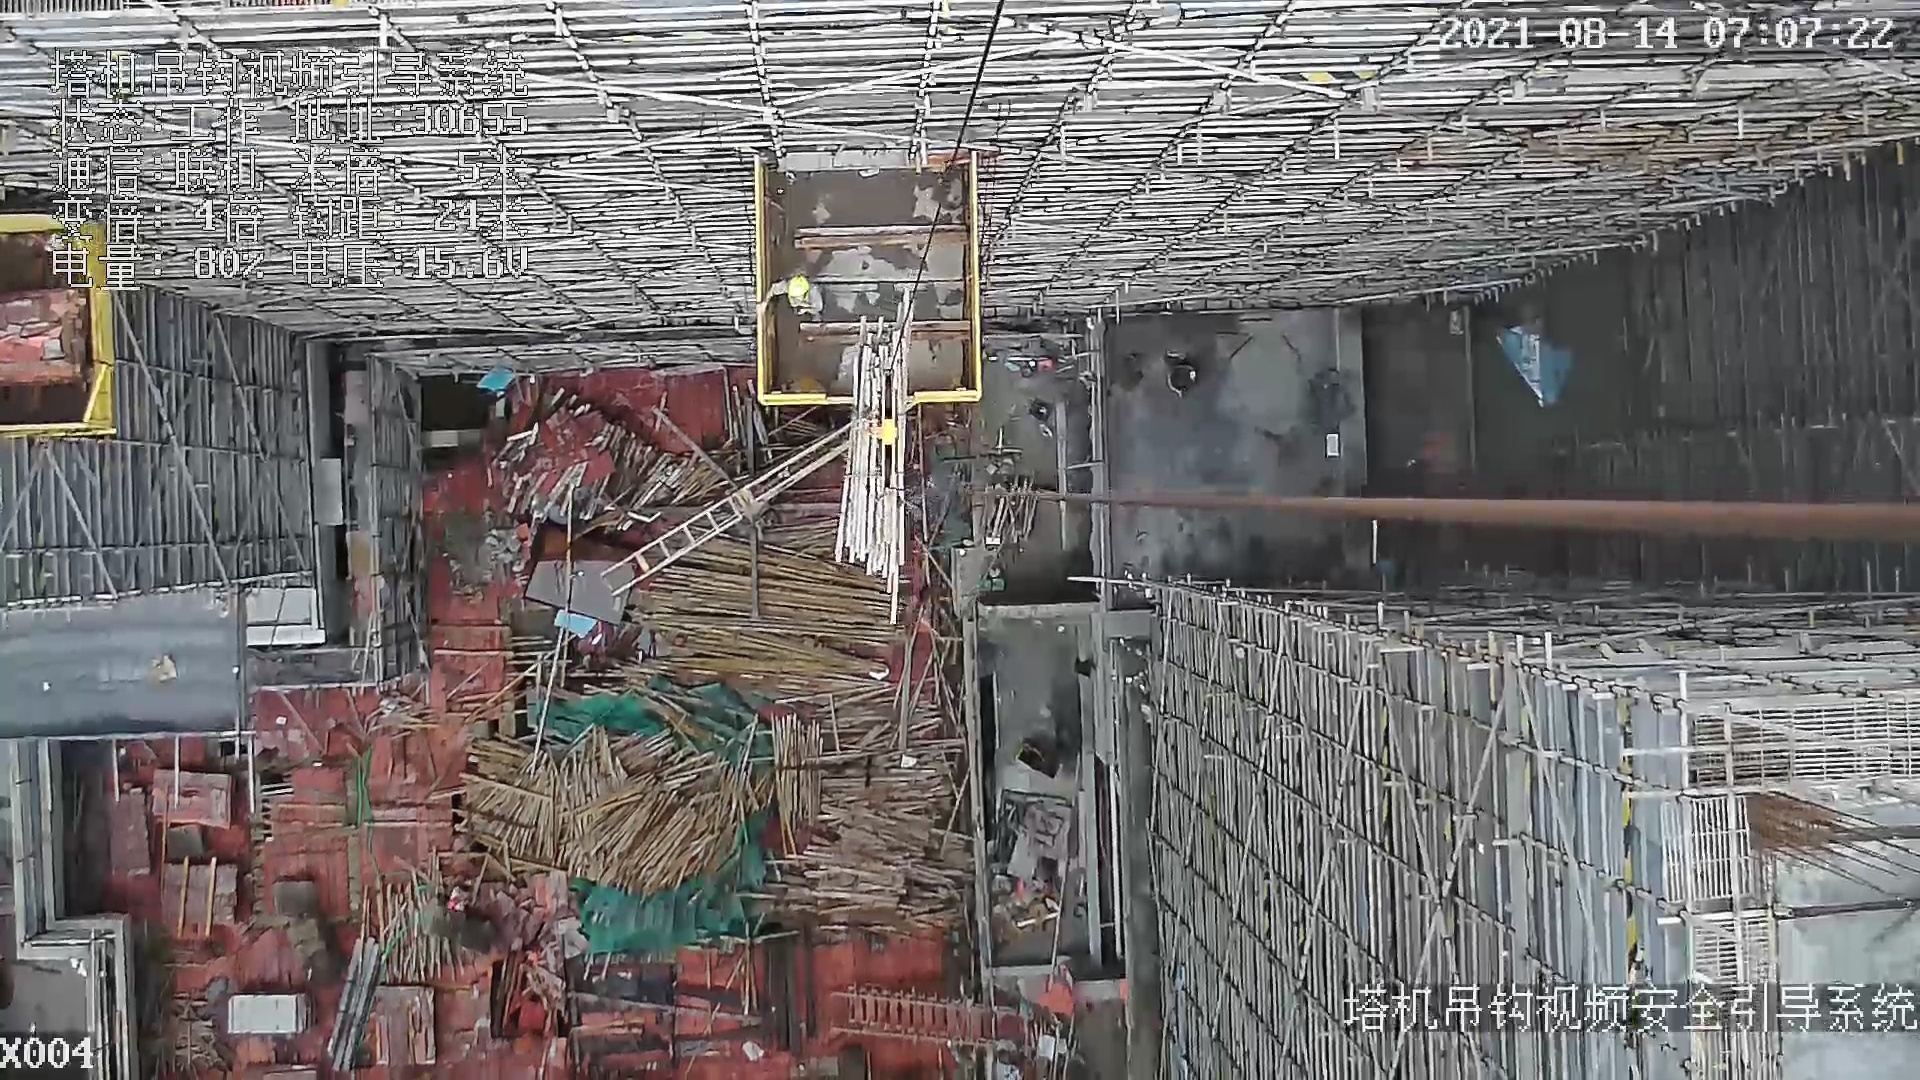helmet: (788, 275, 810, 302)
hook: (872, 367, 904, 491)
person: (760, 268, 827, 321)
